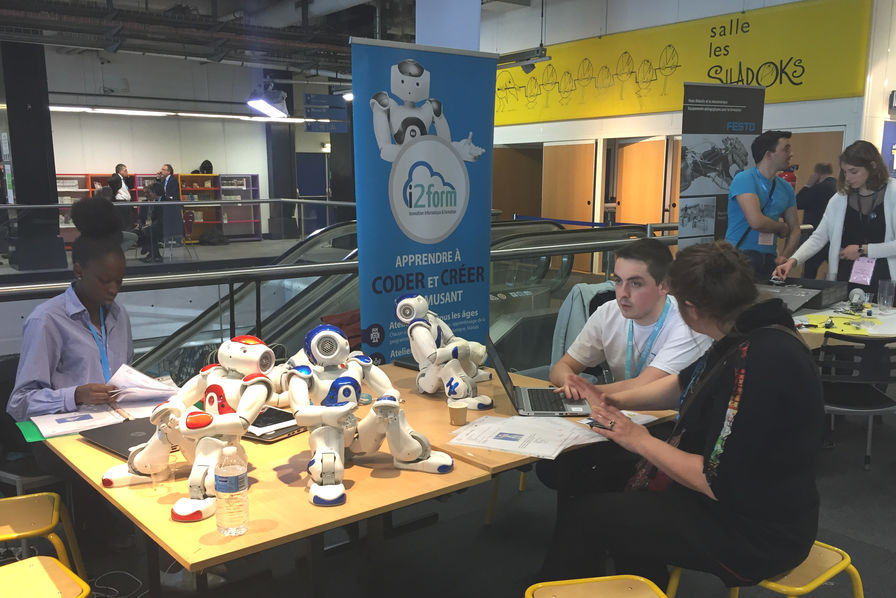nao: (278, 314, 461, 540), (94, 326, 287, 534), (391, 285, 505, 413)
